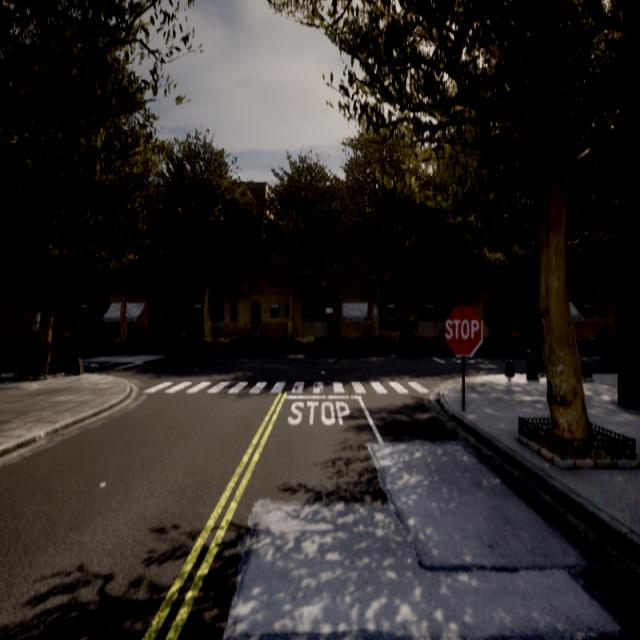stop sign: (442, 302, 484, 359), (444, 316, 480, 341)
